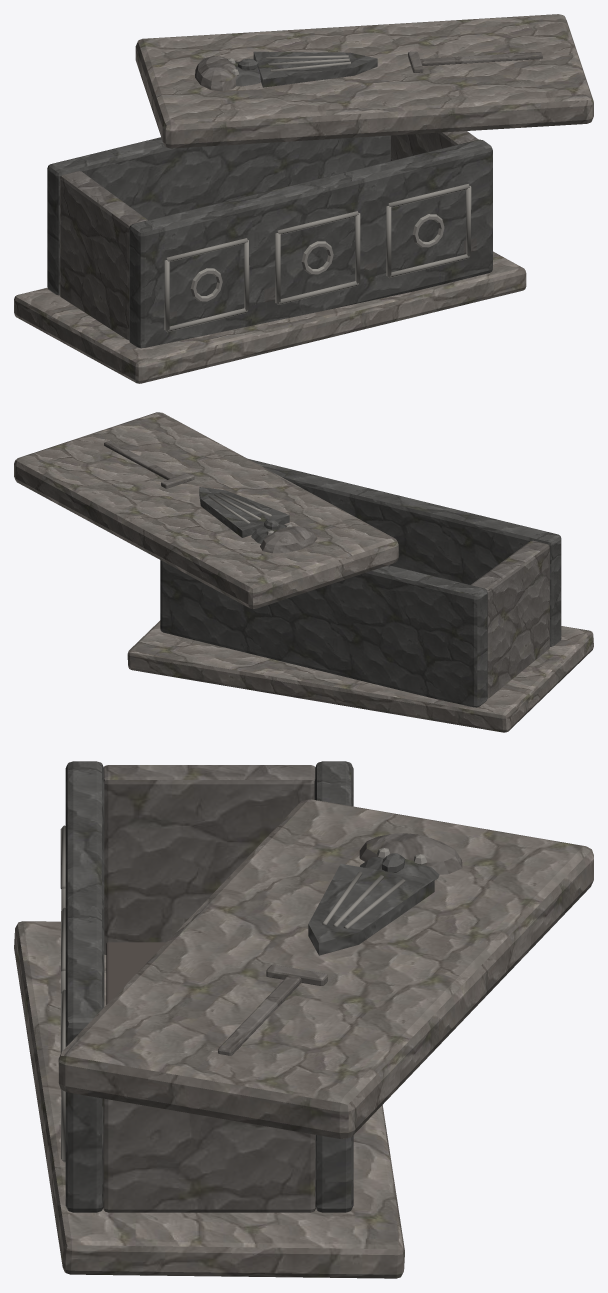
File: sarcophagus_open.glb
3 renders of one model, top to bottom at view 1: azimuth 30°, elevation 25°; view 2: azimuth 150°, elevation 25°; view 3: azimuth 270°, elevation 25°, orthographic. The views are drawn at different scales.
Parts seen in each view (by area): view 1: model; view 2: model; view 3: model.
Part boxes in pixels (box(x1,y1,x2,y2)): model: box(14, 14, 593, 383); model: box(14, 412, 593, 732); model: box(14, 761, 593, 1278).
Bounding box in the file's own units: 2.48 × 0.8758 × 1.49.
Materials: 9 (3 with a texture image).
